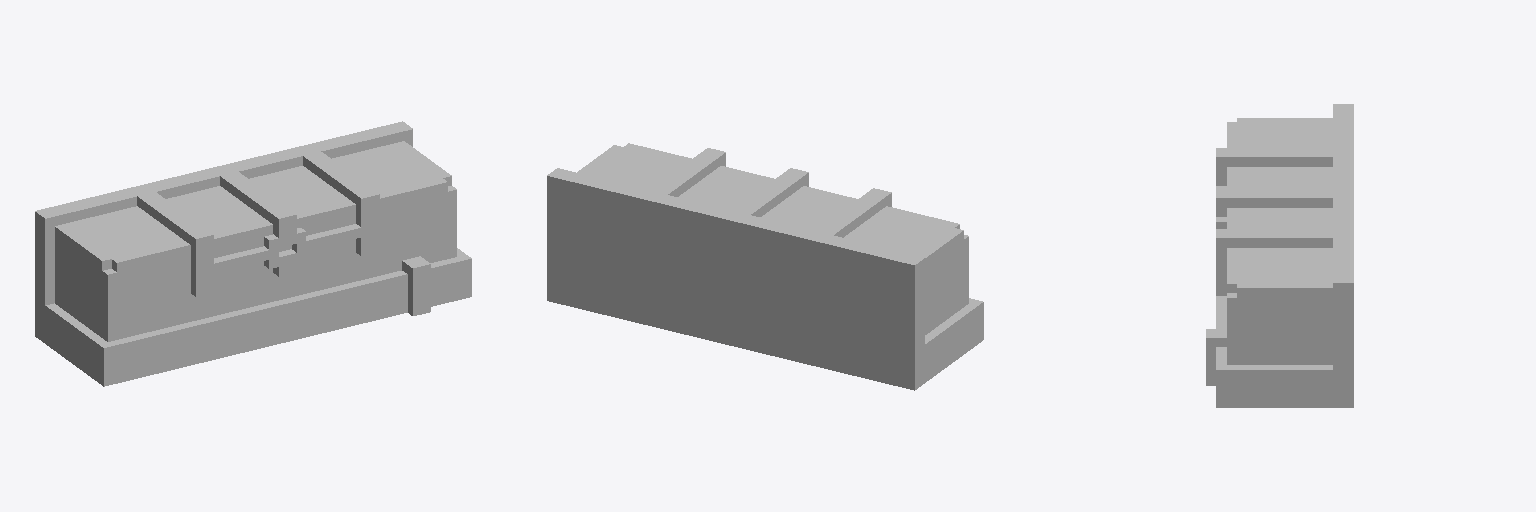
File: chest.obj
3 renders of one model, left to right at view 1: azimuth 30°, elevation 25°; view 2: azimuth 150°, elevation 25°; view 3: azimuth 270°, elevation 25°, orthographic.
Visible parts, largest first — view 1: object 1; view 2: object 1; view 3: object 1.
Part boxes in pixels (x1,y1,x2,y2): object 1: (35,121,471,386); object 1: (547,143,983,390); object 1: (1206,104,1353,407).
Bounding box in the file's own units: 4 × 1.3 × 1.4.